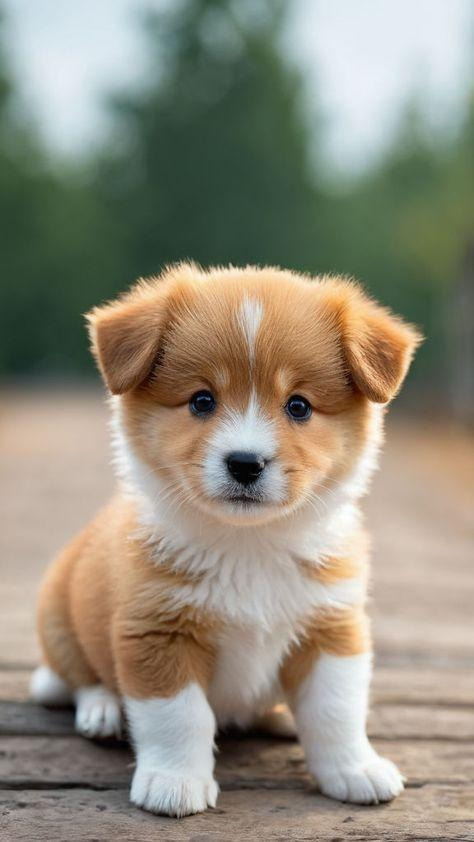puppy-dog: (29, 258, 425, 819)
